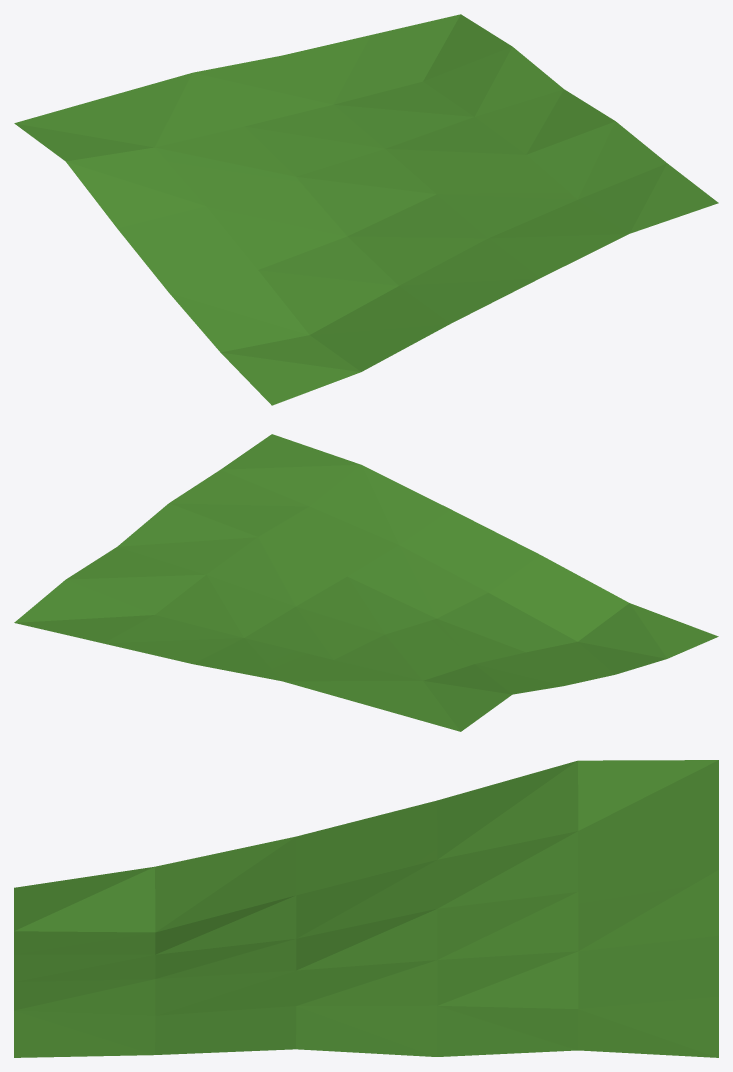
File: terrain-plane-valley3.glb
The picture shows the model from 3 angles, top to bottom: view 1: azimuth 30°, elevation 25°; view 2: azimuth 150°, elevation 25°; view 3: azimuth 270°, elevation 25°; orthographic projection. The views are drawn at different scales.
Visible parts, largest first — view 1: terrain-plane-valley3; view 2: terrain-plane-valley3; view 3: terrain-plane-valley3.
Boxes of the visible parts, x1,y1,x2,y2 form: terrain-plane-valley3: (14, 14, 718, 405); terrain-plane-valley3: (14, 434, 718, 731); terrain-plane-valley3: (14, 760, 718, 1057).
Size of the model in its own units: 30 by 6.45 by 30.
Materials: 1 (1 with a texture image).
